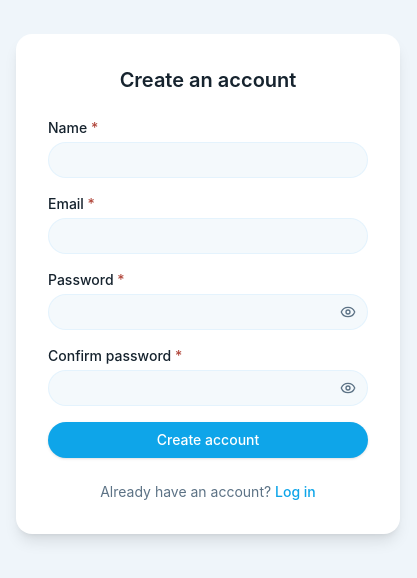
Test: Register › shows the server's error message when the email is already taken
The width and height of the screenshot is (417, 578).
Step 1. Type "Rahul" into the field labelled "Name *" → (208, 160), box [48,142,368,178]
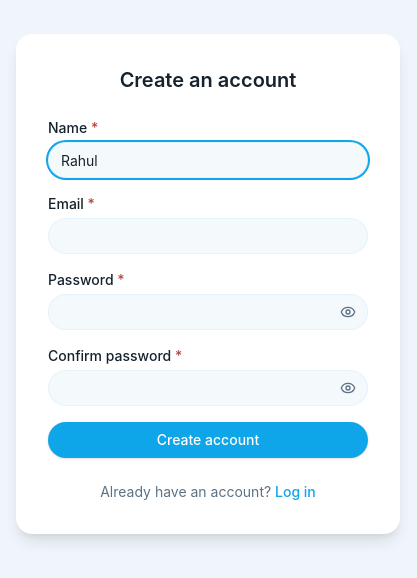
Step 2. Type "user@example.com" into the field labelled "Email *" → (208, 236), box [48,218,368,254]
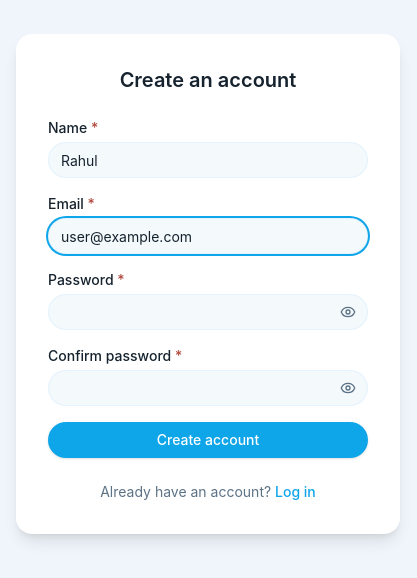
Step 3. Type "password123" into the password field labelled "Password *" → (208, 312), box [48,294,368,330]
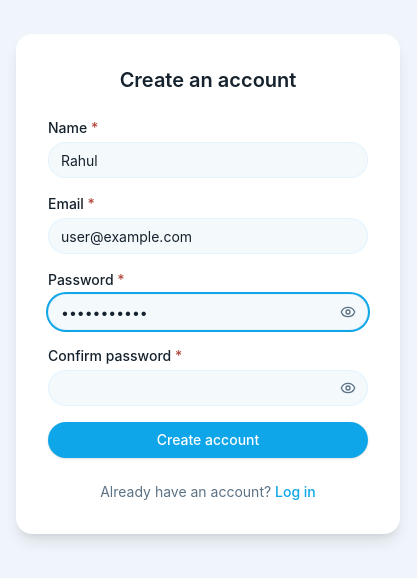
Step 4. Type "password123" into the password field labelled "Confirm password *" → (208, 388), box [48,370,368,406]
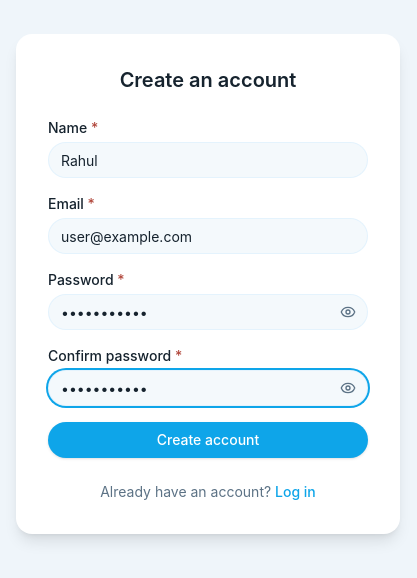
Step 5. Click the button "Create account" → (208, 440), box [48,422,368,458]
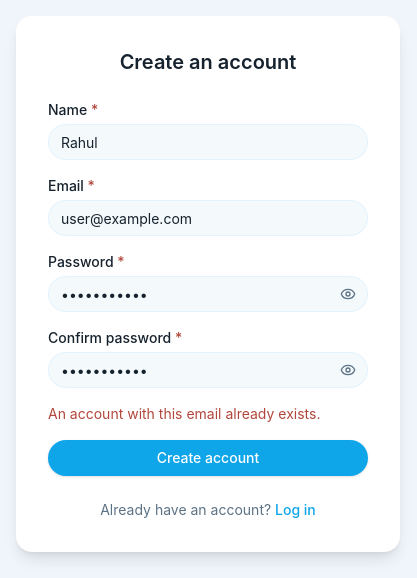
Check: the text "An account with this email already exists." is shown, box [48,404,368,424]
